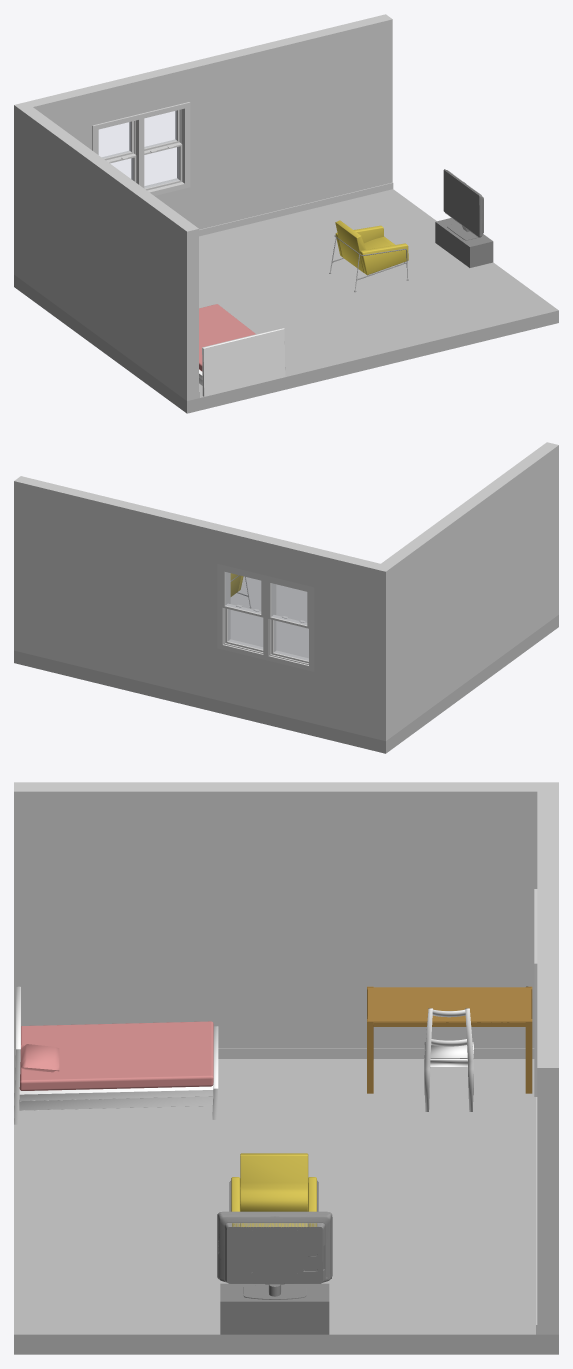
File: L16_W20_furniture3_privacy1.glb
3 renders of one model, top to bottom at view 1: azimuth 30°, elevation 25°; view 2: azimuth 150°, elevation 25°; view 3: azimuth 270°, elevation 25°, orthographic. The views are drawn at different scales.
Bounding box in the file's own units: 248 × 116 × 200.
